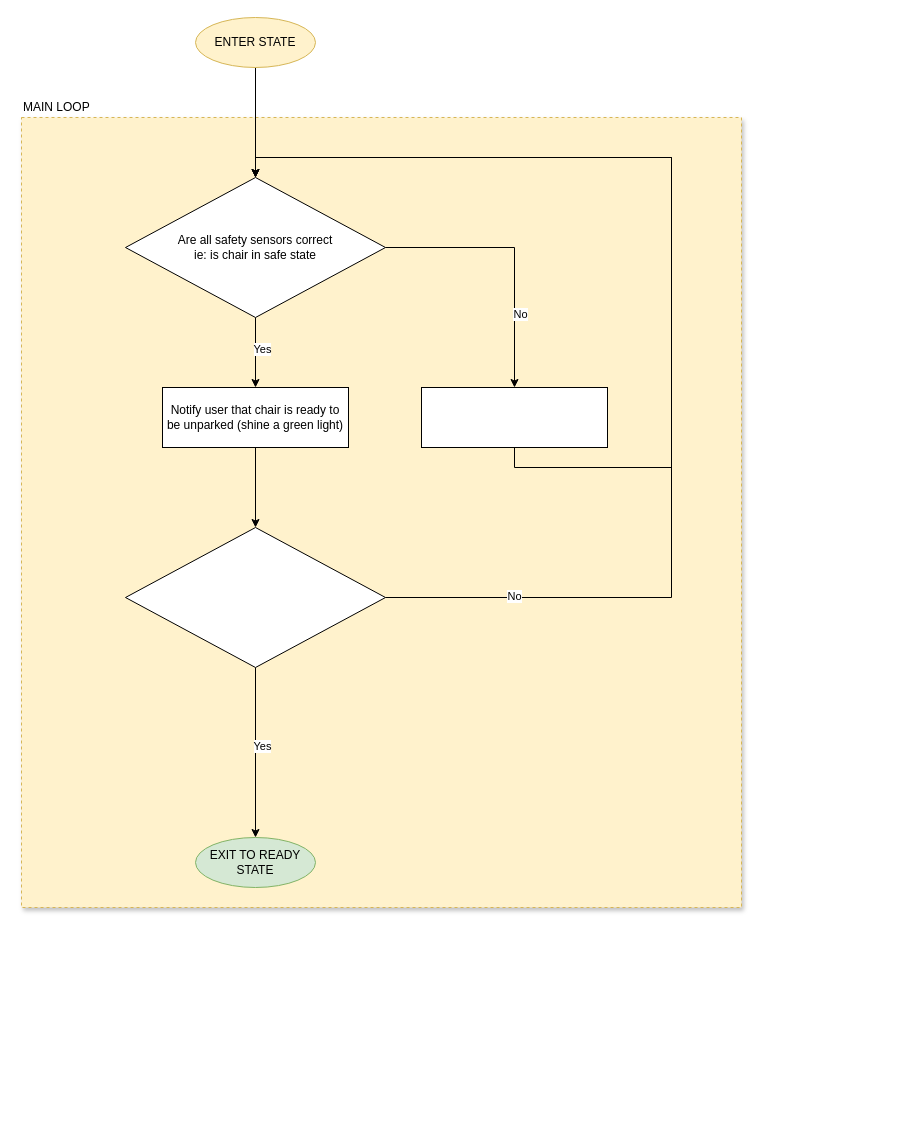
Image size: 919x1135. Some labels were removed from this diagram. The shapes that lost their labels are listed below. From the top down, each one's centre as x and y in pixels, then its label:
At [514,417]: "Notify user that chair is not ready to be unparked (shine a red light)".
At [255,597]: "Has user pressed button to unpark chair?".
